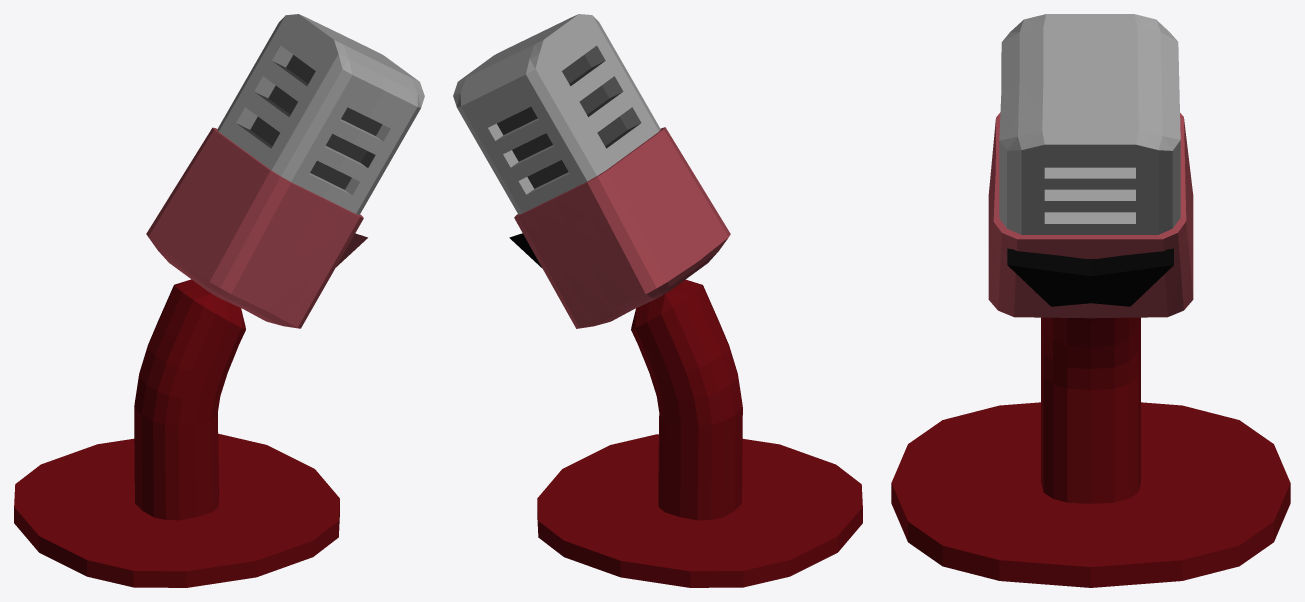
The model's file is parrot.obj.
3 views of the same model, side by side, from view 1: azimuth 30°, elevation 25°; view 2: azimuth 150°, elevation 25°; view 3: azimuth 270°, elevation 25° (orthographic). The views are drawn at different scales.
Visible parts, largest first — view 1: Cube; view 2: Cube; view 3: Cube.
Part boxes in pixels (left/top/right/bottom): Cube: left=14, top=14, right=424, bottom=587; Cube: left=453, top=14, right=862, bottom=587; Cube: left=891, top=14, right=1290, bottom=587.
Size of the model in its own units: 2.63 by 3.18 by 2.
Materials: 1 (1 with a texture image).
